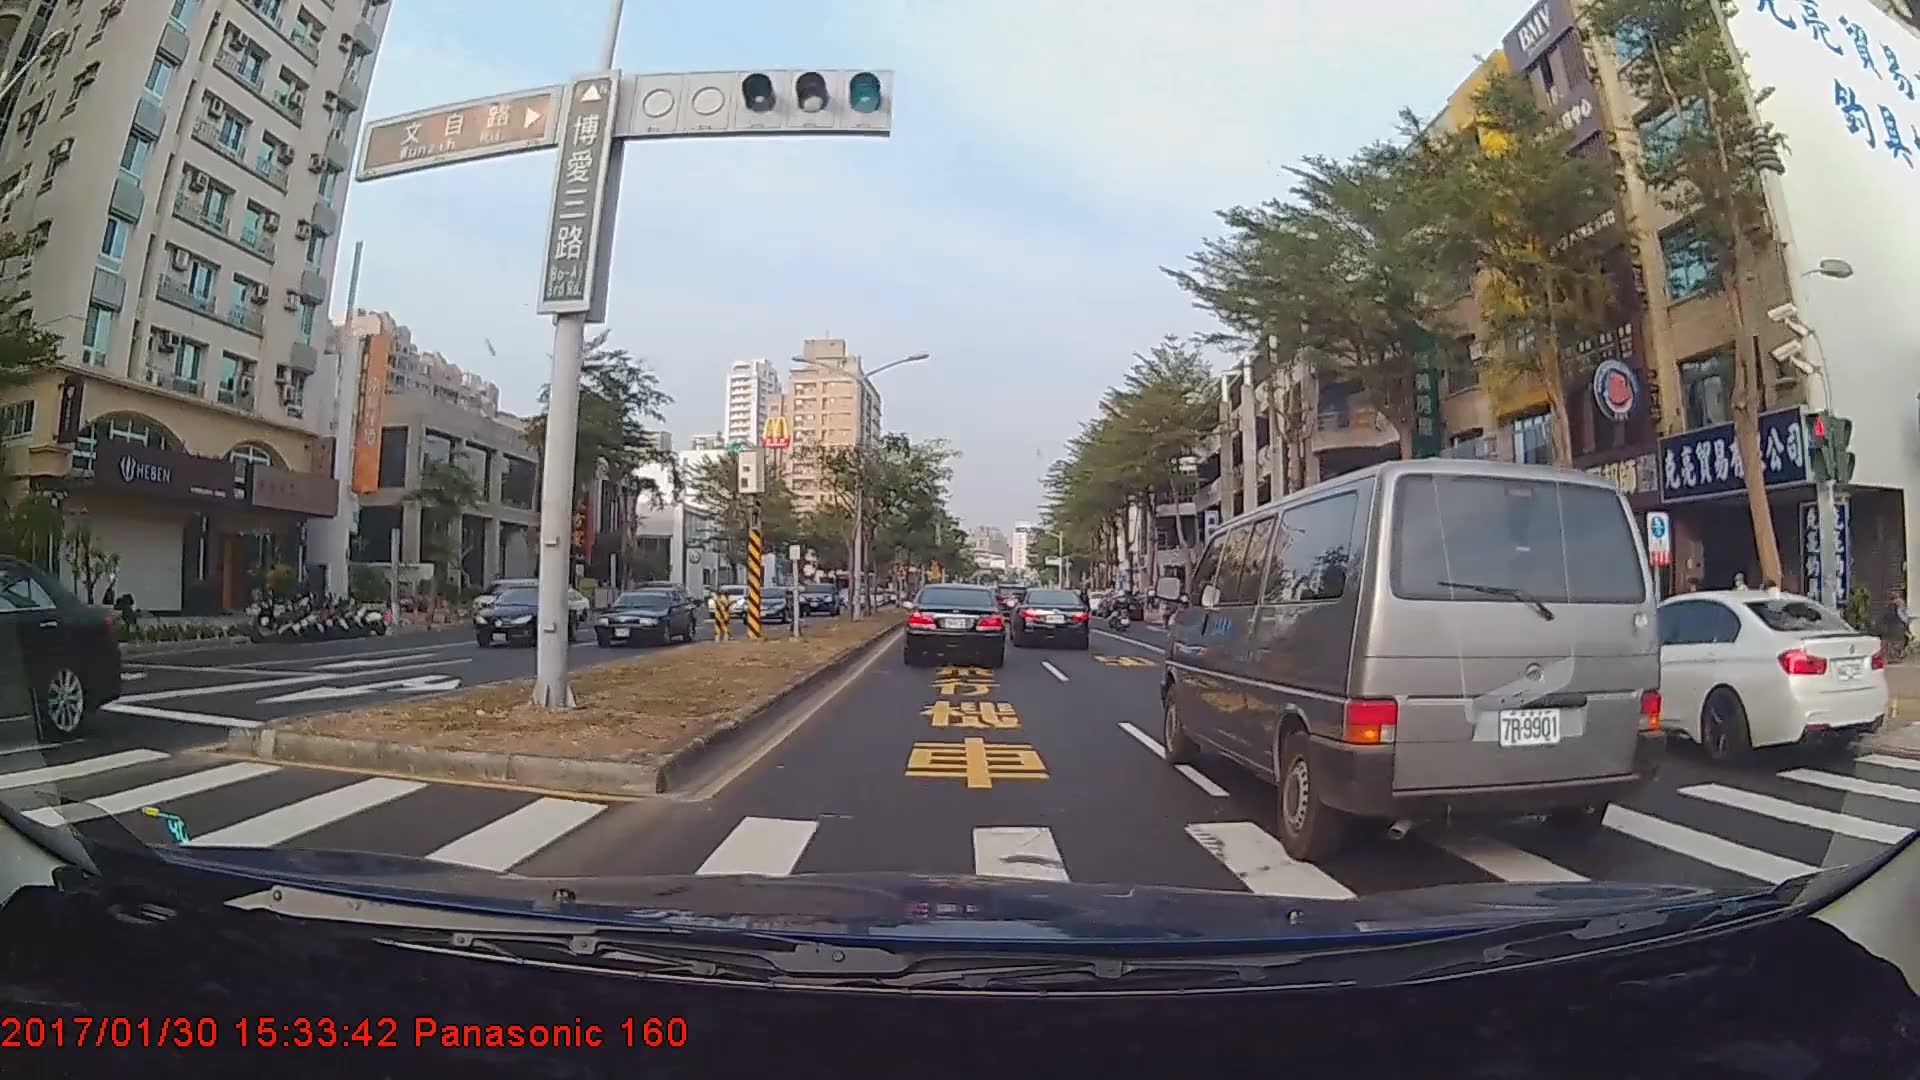vehicle: (1174, 451, 1663, 856), (1241, 475, 1643, 756), (0, 546, 123, 752), (905, 584, 1007, 666), (472, 584, 578, 647), (589, 585, 694, 647), (1007, 588, 1091, 649), (738, 584, 793, 621), (705, 583, 754, 618), (795, 582, 840, 616)
